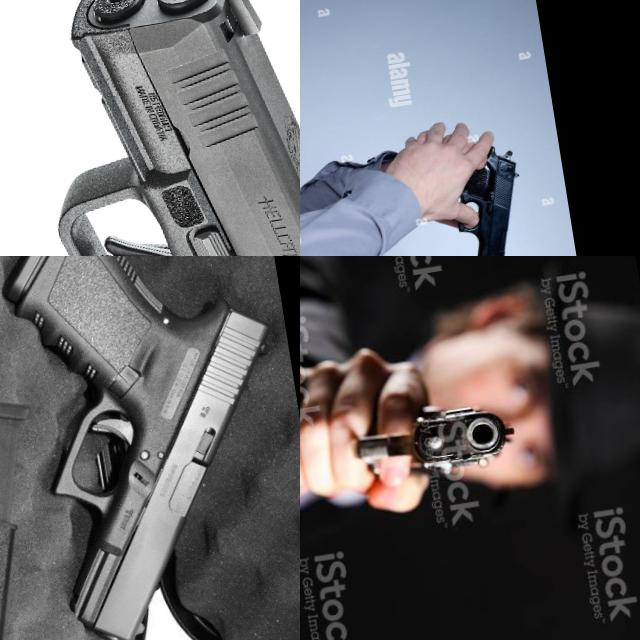handgun: (0, 256, 300, 640), (0, 0, 300, 256), (346, 390, 524, 494), (443, 138, 539, 256)
